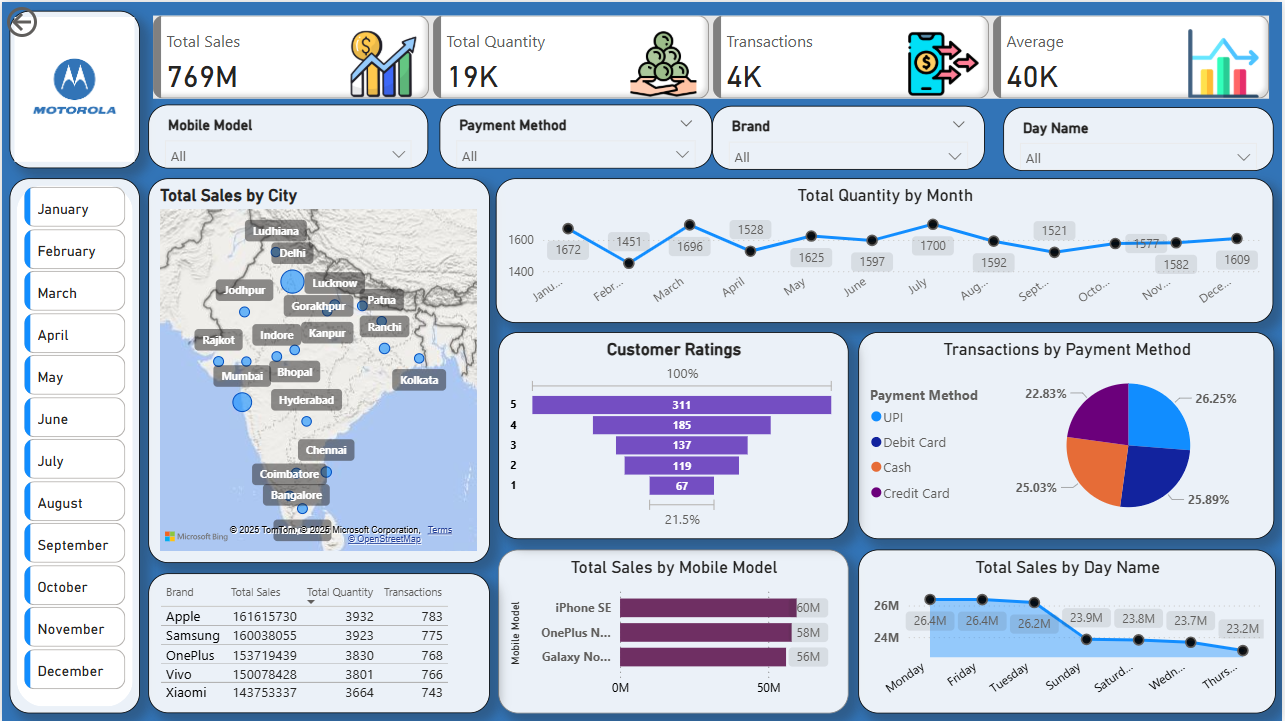

The dashboard page shown, as its layout file describes it:
{"tool":"powerbi","page":{"name":"Duplicate of Page 1","canvas":[1280,720],"ordinal":1},"visuals":[{"type":"shape","box":[7.1,8.6,130,167.1],"z":0},{"type":"image","box":[12.9,18.6,120,145.7],"z":1000},{"type":"shape","box":[7.1,180,130,531.4],"z":2000},{"type":"advancedSlicerVisual","fields":{"Values":["Sales_data.Date.Variation.Date Hierarchy.Month"]},"box":[17.1,180,111.4,517.1],"z":3000},{"type":"cardVisual","fields":{"Data":["Sales_data.Total Sales","Sales_data.Total Quantity","Sales_data.Transactions","Sales_data.Average"]},"box":[145.7,8.6,1127.1,104.3],"z":4000},{"type":"map","fields":{"Category":["Sales_data.City"],"Size":["Sales_data.Total Sales"]},"box":[145.7,180,341.4,381.4],"z":5000},{"type":"lineChart","fields":{"Y":["Sales_data.Total Quantity"],"Category":["Sales_data.Date.Variation.Date Hierarchy.Month","Sales_data.Date.Variation.Date Hierarchy.Day"]},"box":[494.3,180,777.1,140],"z":6000},{"type":"clusteredBarChart","fields":{"Y":["Sales_data.Total Sales"],"Category":["Sales_data.Mobile Model"]},"box":[495.7,571.4,388.6,140],"z":7000},{"type":"pieChart","fields":{"Category":["Sales_data.Payment Method"],"Y":["Sales_data.Transactions"]},"box":[897.1,330,375.7,231.4],"z":8000},{"type":"funnel","title":" Customer Ratings","fields":{"Category":["Sales_data.Customer Ratings"],"Y":["CountNonNull(Sales_data.Customer Ratings)"]},"box":[495.7,330,388.6,231.4],"z":9000},{"type":"areaChart","fields":{"Y":["Sales_data.Total Sales"],"Category":["Sales_data.Day Name"]},"box":[897.1,571.4,375.7,140],"z":10000},{"type":"actionButton","box":[0,0,100,40],"z":11000},{"type":"tableEx","fields":{"Values":["Sales_data.Brand","Sales_data.Total Sales","Sales_data.Total Quantity","Sales_data.Transactions"]},"box":[145.7,571.4,341.4,140],"z":12000},{"type":"slicer","fields":{"Values":["Sales_data.Mobile Model"]},"box":[145.7,112.9,280,62.9],"z":13000},{"type":"slicer","fields":{"Values":["Sales_data.Day Name"]},"box":[1001.4,112.9,270,62.9],"z":14000},{"type":"slicer","fields":{"Values":["Sales_data.Brand"]},"box":[718.6,112.9,272.9,62.9],"z":15000},{"type":"slicer","fields":{"Values":["Sales_data.Payment Method"]},"box":[435.7,112.9,272.9,62.9],"z":16000}]}

Visuals, with their boxes in screenshot pixels (x1, y1, x2, y2), scaled from the page's 1280x720 canvas onto the 1285x721 screenshot:
shape: 7,9,138,176
image: 13,19,133,165
shape: 7,180,138,712
advancedSlicerVisual - Sales_data.Date.Variation.Date Hierarchy.Month: 17,180,129,698
cardVisual - Sales_data.Total Sales x Sales_data.Total Quantity: 146,9,1278,113
map - Sales_data.City x Sales_data.Total Sales: 146,180,489,562
lineChart - Sales_data.Total Quantity x Sales_data.Date.Variation.Date Hierarchy.Month: 496,180,1276,320
clusteredBarChart - Sales_data.Total Sales x Sales_data.Mobile Model: 498,572,888,712
pieChart - Sales_data.Payment Method x Sales_data.Transactions: 901,330,1278,562
" Customer Ratings" funnel: 498,330,888,562
areaChart - Sales_data.Total Sales x Sales_data.Day Name: 901,572,1278,712
actionButton: 0,0,100,40
tableEx - Sales_data.Brand x Sales_data.Total Sales: 146,572,489,712
slicer - Sales_data.Mobile Model: 146,113,427,176
slicer - Sales_data.Day Name: 1005,113,1276,176
slicer - Sales_data.Brand: 721,113,995,176
slicer - Sales_data.Payment Method: 437,113,711,176
